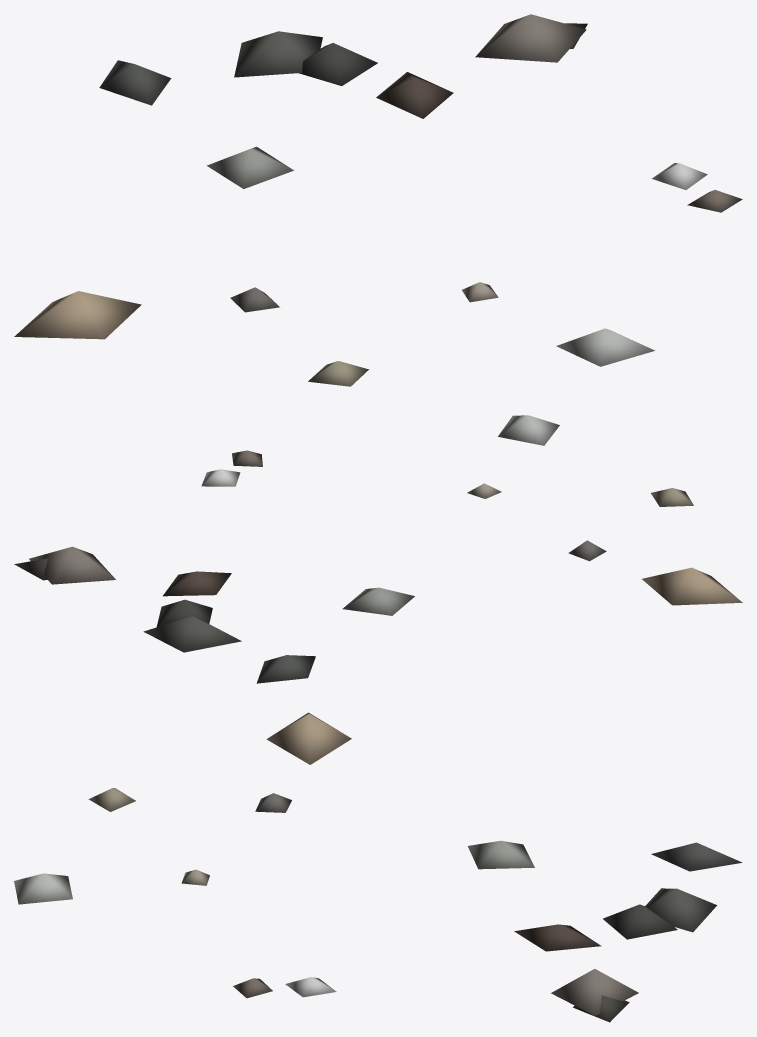
Rendered from pebbles-a.lod2.glb.
3 views of the same model, one above another, from view 1: azimuth 30°, elevation 25°; view 2: azimuth 150°, elevation 25°; view 3: azimuth 270°, elevation 25° (orthographic). The views are drawn at different scales.
Size of the model in its own units: 1.69 by 0.0894 by 1.69.
